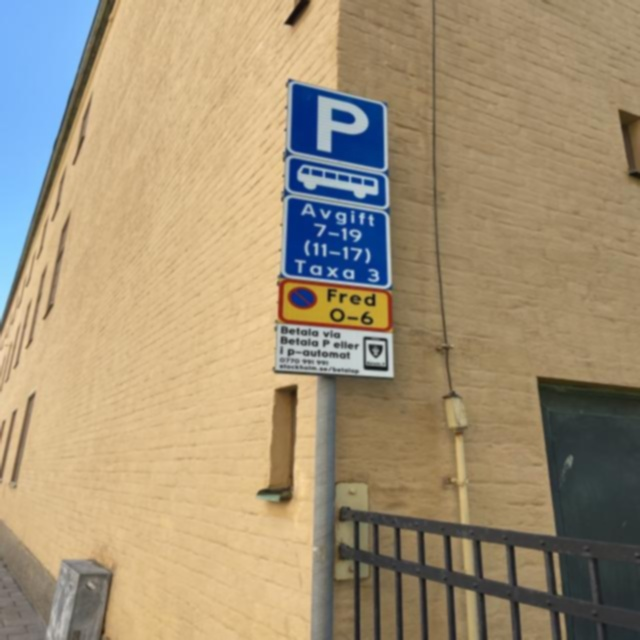P-skylt: (285, 78, 387, 174)
